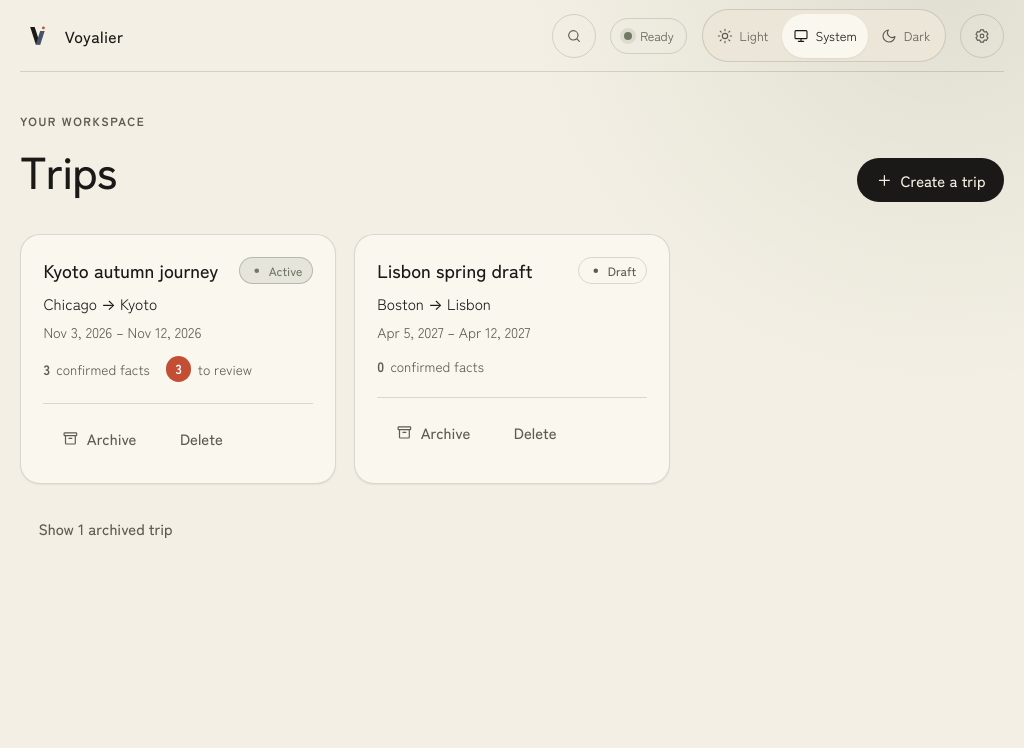
it: trip notes › says so when a save fails, and keeps the text on screen
Click the button with aria-label "Open Kyoto autumn journey".
click(131, 270)  # box [43,257,218,283]
(page scrolled)
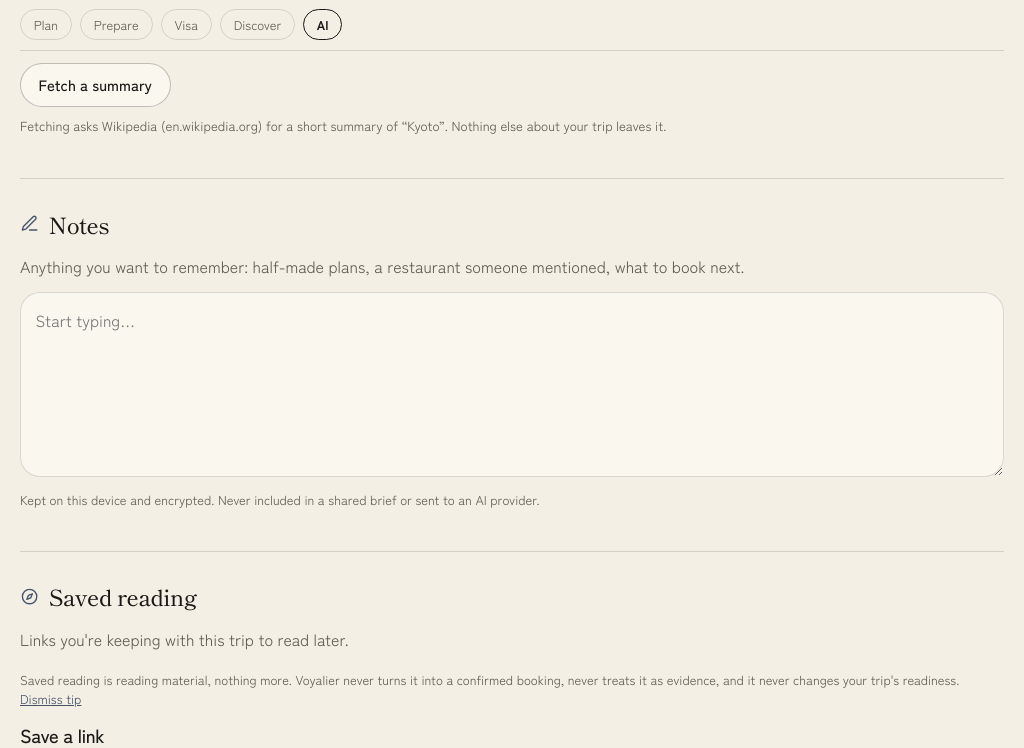
Expected: the text box named "Trip notes" is shown
Type "Unsaved thought" into the text box named "Trip notes".
click(512, 384); type("Unsaved thought")  # box [20,292,1004,477]
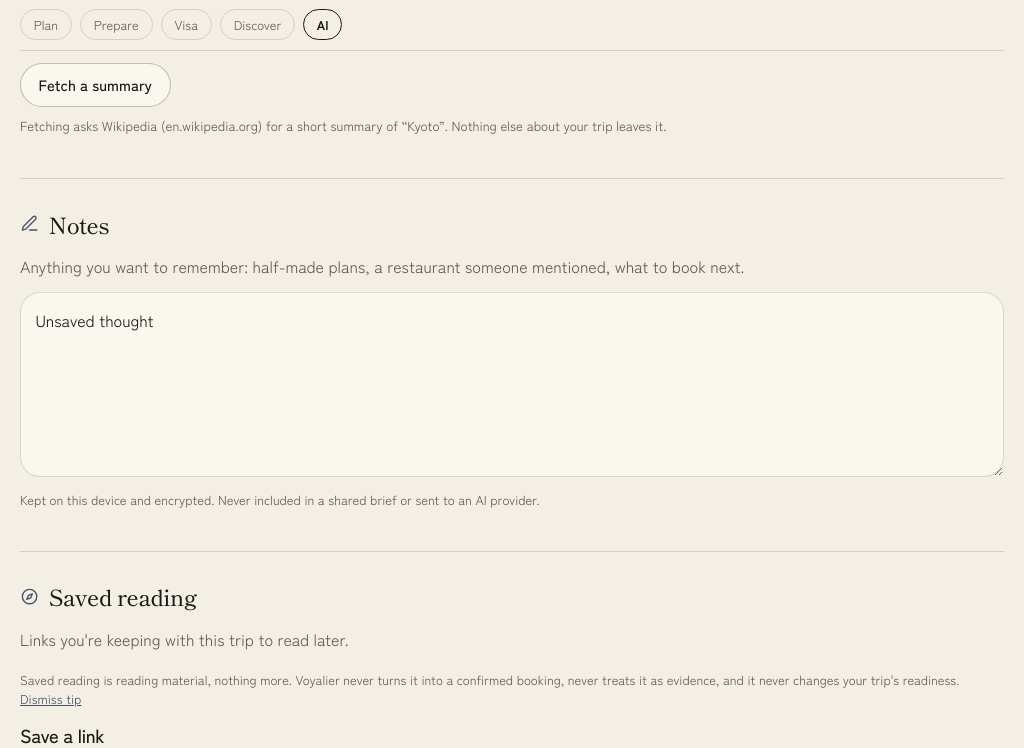
Leave the text box named "Trip notes", box [20,292,1004,477]
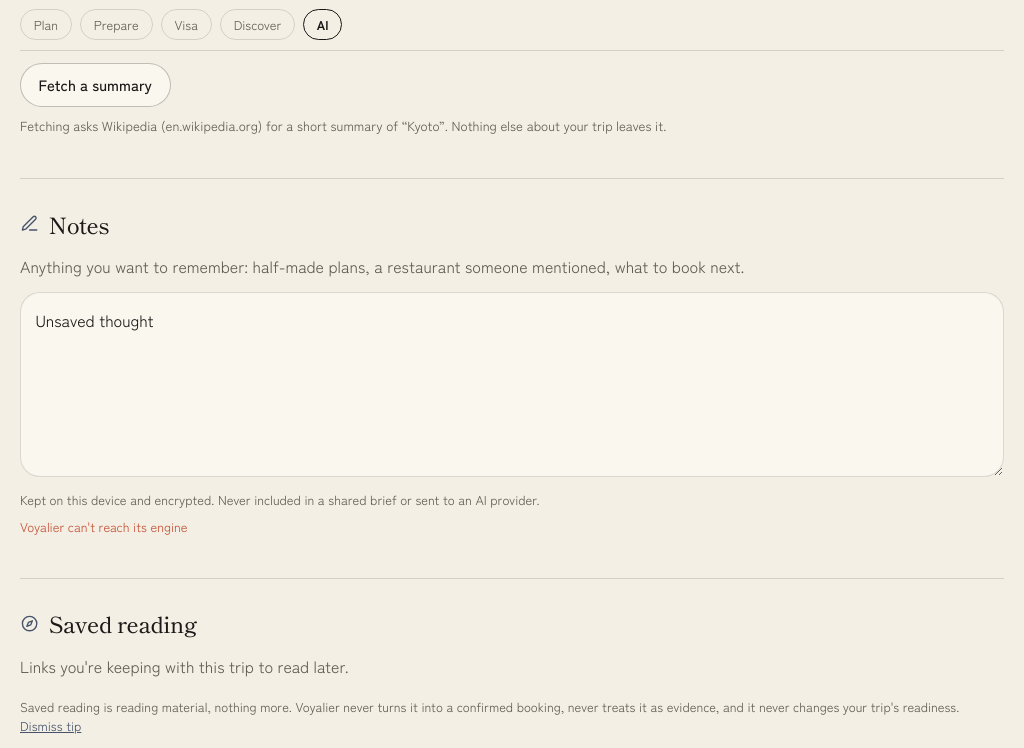
Expected: the message "Voyalier can't reach its engine" is shown, [20,517,188,536]
